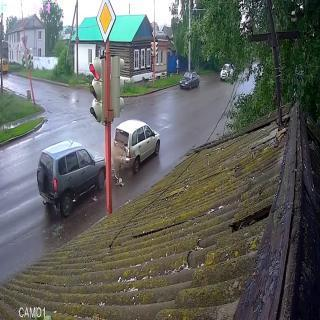multiple_accident: (28, 119, 160, 197)
